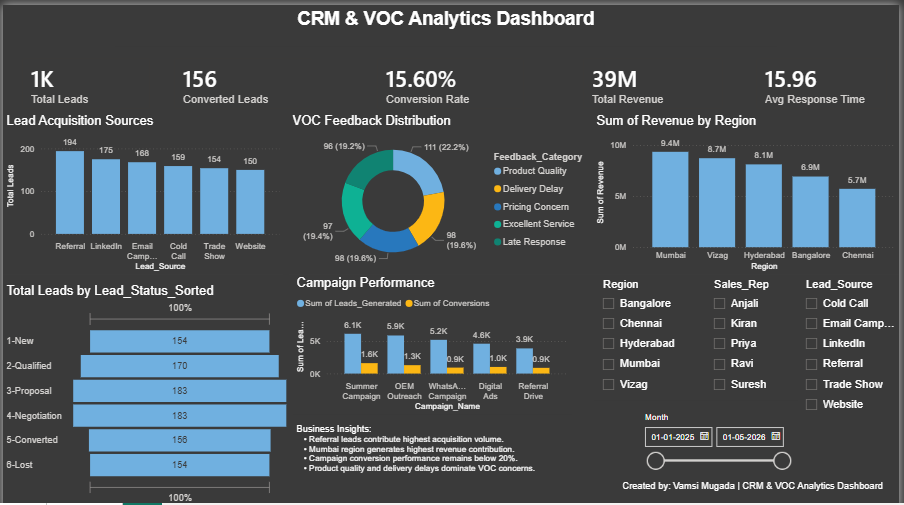

This screenshot's page, from the dashboard's own definition file:
{"tool":"powerbi","page":{"name":"Page 1","canvas":[1280,720],"ordinal":0},"visuals":[{"type":"cardVisual","fields":{"Data":["CRM_Leads.Total Leads"]},"box":[10,58.6,217.1,107.1],"z":0},{"type":"cardVisual","fields":{"Data":["CRM_Leads.Converted Leads"]},"box":[227.1,58.6,232.9,107.1],"z":1000},{"type":"cardVisual","fields":{"Data":["CRM_Leads.Conversion Rate"]},"box":[517.1,58.6,244.3,107.1],"z":2000},{"type":"cardVisual","fields":{"Data":["CRM_Leads.Total Revenue"]},"box":[811.4,58.6,234.3,107.1],"z":3000},{"type":"cardVisual","fields":{"Data":["CRM_Leads.Avg Response Time"]},"box":[1058.6,58.6,221.4,107.1],"z":4000},{"type":"clusteredColumnChart","title":"Lead Acquisition Sources","fields":{"Category":["CRM_Leads.Lead_Source"],"Y":["CRM_Leads.Total Leads"]},"box":[0,154.6,400.1,230.7],"z":5000},{"type":"funnel","fields":{"Category":["CRM_Leads.Lead_Status_Sorted"],"Y":["CRM_Leads.Total Leads"]},"box":[0,397.4,414.7,322.6],"z":6000},{"type":"columnChart","fields":{"Category":["CRM_Leads.Region"],"Y":["Sum(CRM_Leads.Revenue)"]},"box":[843.1,154.6,436.9,230.7],"z":7000},{"type":"donutChart","title":"VOC Feedback Distribution","fields":{"Category":["VOC_Feedback.Feedback_Category"],"Y":["CountNonNull(VOC_Feedback.Feedback_ID)"]},"box":[408.7,154.6,434.4,230.7],"z":8000},{"type":"clusteredColumnChart","title":"Campaign Performance","fields":{"Category":["Marketing_Campaigns.Campaign_Name"],"Y":["Sum(Marketing_Campaigns.Leads_Generated)","Sum(Marketing_Campaigns.Conversions)"]},"box":[414.8,385.3,397.6,198.8],"z":9000},{"type":"slicer","fields":{"Values":["CRM_Leads.Region"]},"box":[844,385.4,158.3,178.7],"z":10000},{"type":"slicer","fields":{"Values":["CRM_Leads.Lead_Source"]},"box":[1134.7,385.4,145.3,207.8],"z":11000},{"type":"slicer","fields":{"Values":["CRM_Leads.Sales_Rep"]},"box":[1002.3,385.4,132.4,178.7],"z":12000},{"type":"slicer","fields":{"Values":["Marketing_Campaigns.Month"]},"box":[904.3,577,230.4,98],"z":13000},{"type":"textbox","box":[159.8,0,944.6,59],"z":14000},{"type":"image","box":[0,0,160,58.9],"z":15000},{"type":"image","box":[1104.5,0,174.2,59],"z":16000},{"type":"textbox","box":[414.3,592.9,402.9,127.1],"z":16001},{"type":"textbox","box":[880.6,675,383.2,34.4],"z":16002}]}

Visuals, with their boxes in screenshot pixels (x1, y1, x2, y2), scaled from the page's 1280x720 canvas onto the 904x505 screenshot:
cardVisual - CRM_Leads.Total Leads: locate(7, 41, 160, 116)
cardVisual - CRM_Leads.Converted Leads: locate(160, 41, 325, 116)
cardVisual - CRM_Leads.Conversion Rate: locate(365, 41, 538, 116)
cardVisual - CRM_Leads.Total Revenue: locate(573, 41, 739, 116)
cardVisual - CRM_Leads.Avg Response Time: locate(748, 41, 903, 116)
"Lead Acquisition Sources" clusteredColumnChart: locate(0, 108, 283, 270)
funnel - CRM_Leads.Lead_Status_Sorted x CRM_Leads.Total Leads: locate(0, 279, 293, 504)
columnChart - CRM_Leads.Region x Sum(CRM_Leads.Revenue): locate(595, 108, 903, 270)
"VOC Feedback Distribution" donutChart: locate(289, 108, 595, 270)
"Campaign Performance" clusteredColumnChart: locate(293, 270, 574, 410)
slicer - CRM_Leads.Region: locate(596, 270, 708, 396)
slicer - CRM_Leads.Lead_Source: locate(801, 270, 903, 416)
slicer - CRM_Leads.Sales_Rep: locate(708, 270, 801, 396)
slicer - Marketing_Campaigns.Month: locate(639, 405, 801, 473)
textbox: locate(113, 0, 780, 41)
image: locate(0, 0, 113, 41)
image: locate(780, 0, 903, 41)
textbox: locate(293, 416, 577, 504)
textbox: locate(622, 473, 893, 498)
